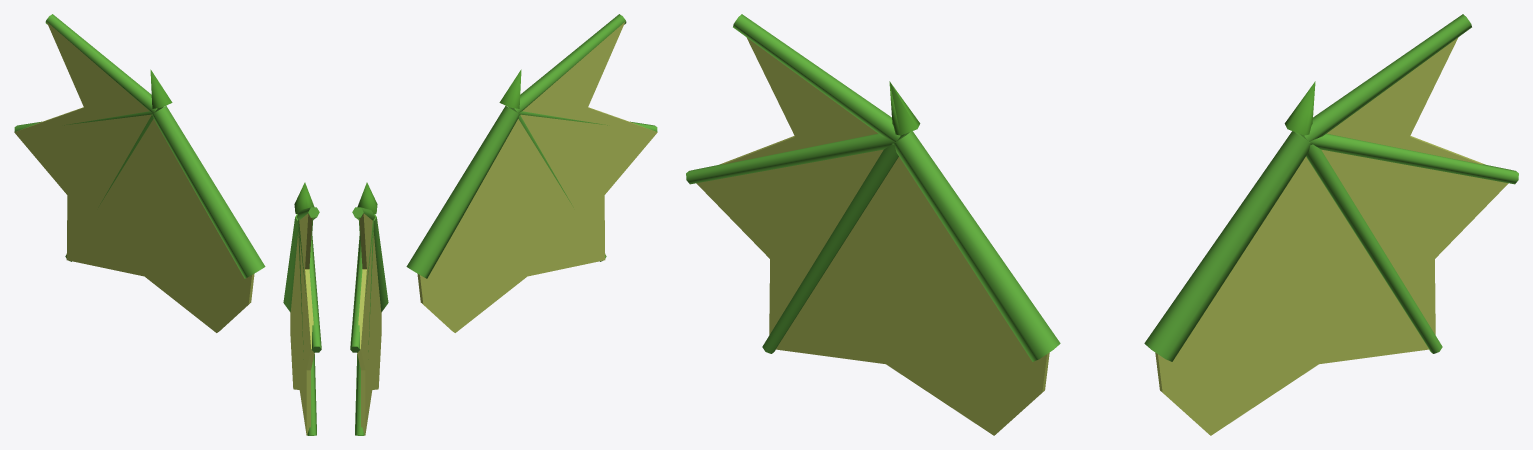
File: back_meadow_wings.glb
3 views of the same model, side by side, from view 1: azimuth 30°, elevation 25°; view 2: azimuth 150°, elevation 25°; view 3: azimuth 270°, elevation 25° (orthographic). The views are drawn at different scales.
Visible parts, largest first — view 1: Wing_L, Wing_R; view 2: Wing_R, Wing_L; view 3: Wing_L, Wing_R.
Boxes of the visible parts, x1,y1,x2,y2 form: Wing_L: [14, 14, 265, 332]; Wing_R: [283, 182, 321, 435]; Wing_R: [406, 14, 657, 332]; Wing_L: [350, 182, 388, 435]; Wing_L: [1144, 14, 1518, 435]; Wing_R: [686, 14, 1060, 435].
Bounding box in the file's own units: 0.38 × 0.7953 × 1.63.
